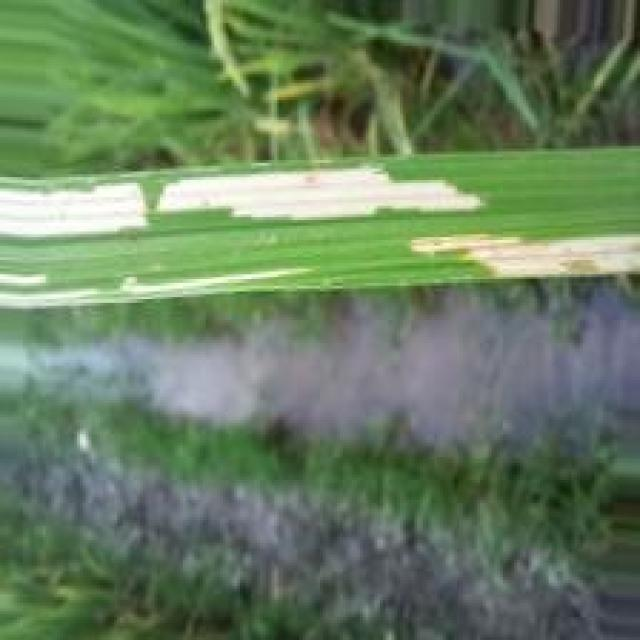Rice_Hispa: (0, 163, 483, 237), (0, 261, 309, 303), (406, 237, 640, 279)
